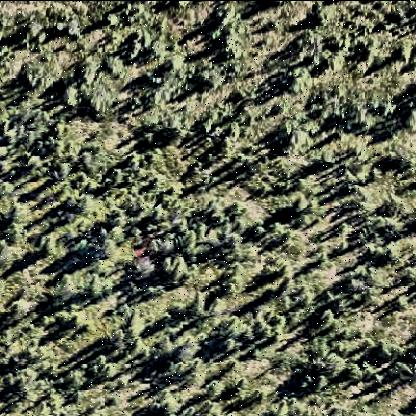tree-top: (337, 90, 373, 129), (160, 215, 200, 245), (157, 251, 190, 285), (312, 351, 346, 383), (209, 4, 238, 36), (273, 121, 303, 151), (52, 268, 81, 299), (158, 113, 188, 141), (143, 33, 171, 63), (308, 363, 337, 391), (2, 273, 20, 317), (283, 67, 311, 95), (295, 29, 323, 57), (176, 329, 204, 357), (380, 343, 407, 372), (85, 273, 111, 302), (74, 59, 100, 87), (19, 64, 47, 90), (6, 203, 32, 230), (124, 34, 149, 62), (376, 337, 402, 363), (317, 304, 343, 330), (224, 317, 251, 341), (20, 17, 46, 41), (132, 256, 158, 280), (344, 273, 372, 295), (291, 195, 314, 219), (65, 368, 89, 391), (307, 4, 331, 26), (155, 396, 181, 416), (384, 149, 406, 172), (58, 80, 79, 104), (399, 98, 416, 127), (389, 356, 411, 378), (204, 197, 226, 219), (104, 53, 125, 76), (256, 220, 280, 240), (126, 314, 146, 337), (207, 20, 227, 42), (228, 378, 250, 398), (205, 380, 225, 401), (395, 42, 413, 64), (227, 261, 249, 279), (164, 54, 183, 73), (250, 221, 268, 240), (100, 238, 120, 255), (197, 117, 215, 135), (1, 128, 18, 147), (401, 267, 416, 288), (73, 238, 94, 253), (268, 18, 284, 35), (104, 11, 120, 28)
